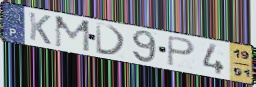4: (201, 42, 227, 76)
9: (130, 30, 159, 64)
D: (94, 21, 128, 57)
K: (28, 11, 53, 46)
M: (54, 14, 92, 54)
P: (166, 34, 197, 68)
